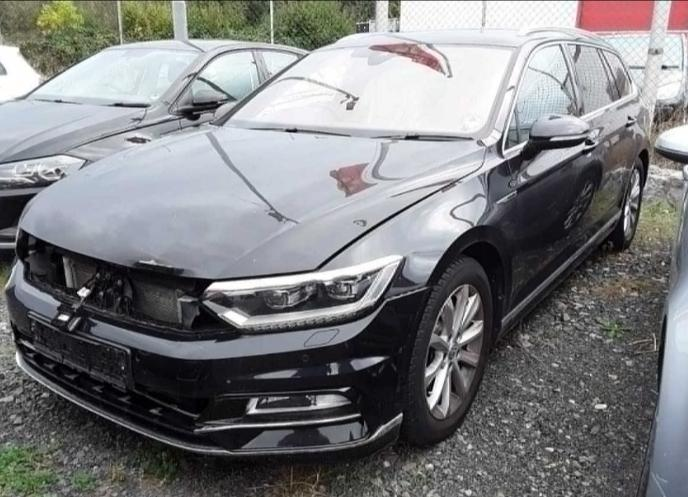Broken part: (16, 227, 233, 333), (19, 339, 252, 436)
Dent: (127, 258, 196, 277)
Missing part: (27, 314, 132, 386)
Paint chip: (139, 258, 173, 268)
